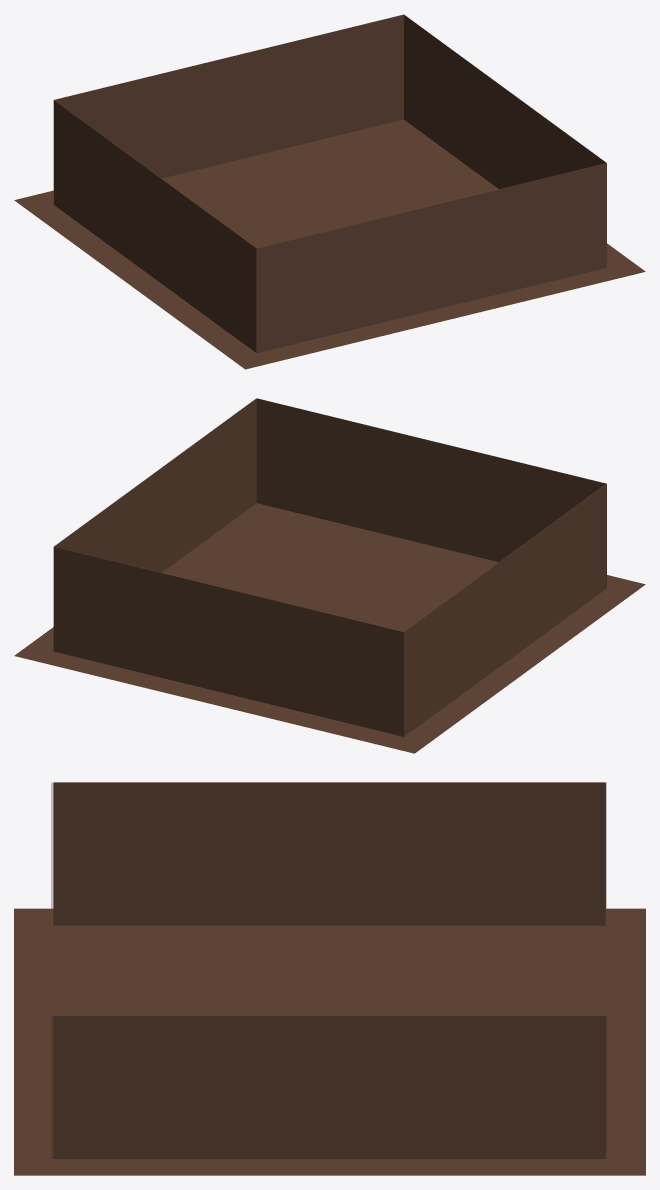
File: Room.fbx
The picture shows the model from 3 angles, top to bottom: view 1: azimuth 30°, elevation 25°; view 2: azimuth 150°, elevation 25°; view 3: azimuth 270°, elevation 25°; orthographic projection. The views are drawn at different scales.
Parts seen in each view (by area): view 1: room_allwalls; view 2: room_allwalls; view 3: room_allwalls.
Boxes of the visible parts, x1=… form: room_allwalls: x1=14, y1=14, x2=645, y2=369; room_allwalls: x1=14, y1=398, x2=645, y2=753; room_allwalls: x1=14, y1=782, x2=645, y2=1175.
Size of the model in its own units: 4007 by 1002 by 4007.
